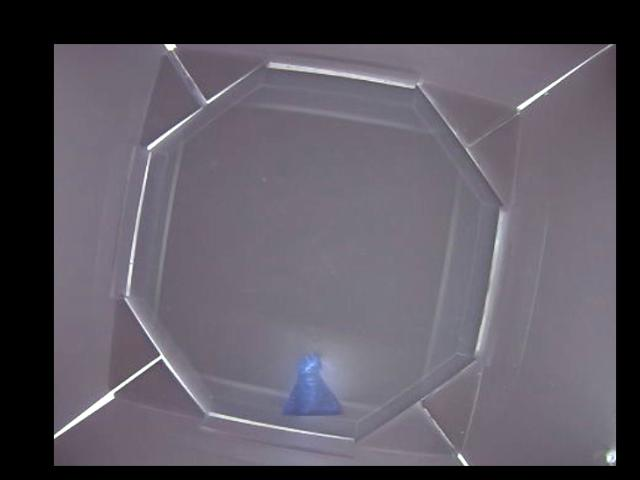Mooli: (279, 353, 345, 416)
